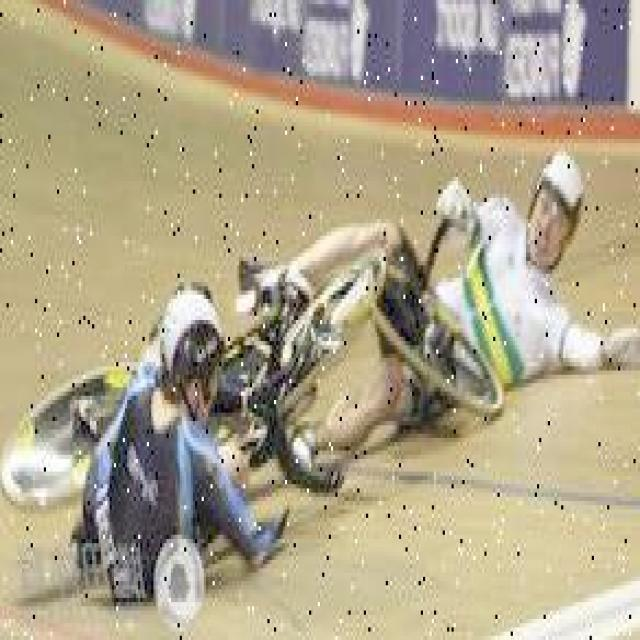fall: (334, 147, 626, 442)
